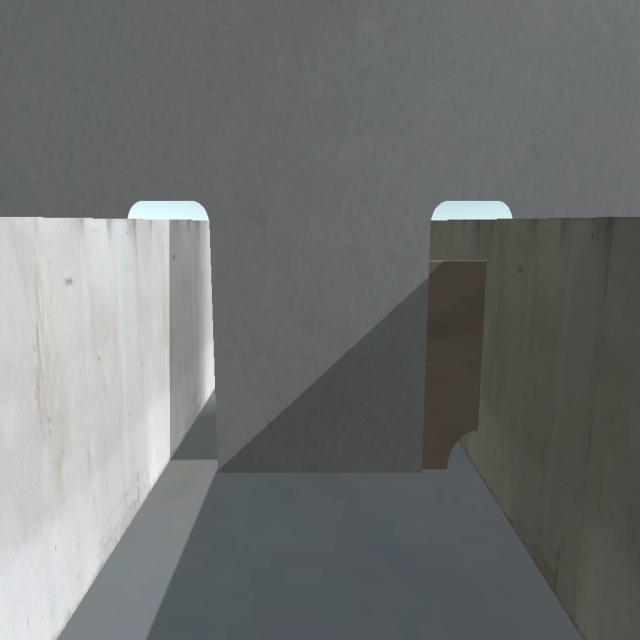fillet_hole: (448, 428, 478, 466)
fillet_yong_jeop_jang: (207, 462, 462, 487)
longi_yong_jeop_jang: (476, 258, 490, 437)
plate_behind: (422, 256, 486, 470)
